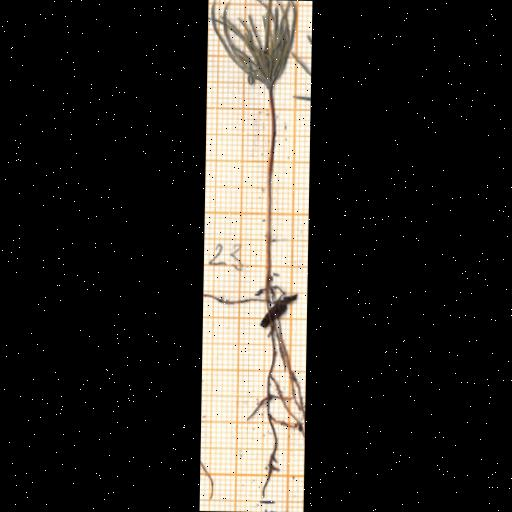flowerPinus: (211, 0, 297, 91)
rootPinus: (250, 280, 306, 495), (205, 296, 254, 305)
stemPinus: (266, 87, 277, 275)
